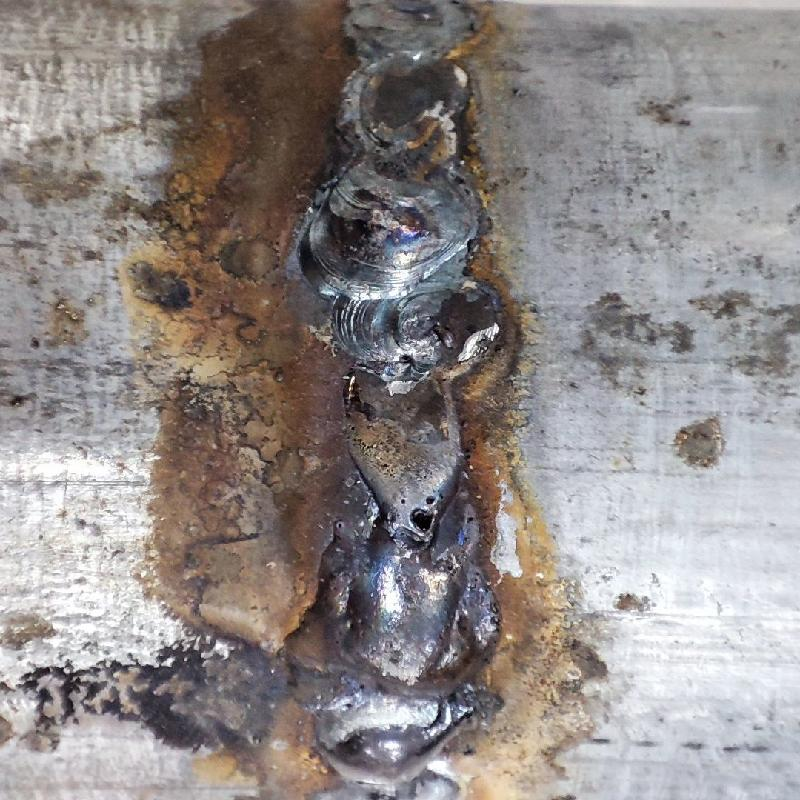Not_fully_soldered: (328, 277, 502, 529), (321, 2, 484, 216)
Surface_pores: (391, 484, 454, 540)
Weld: (298, 542, 504, 789)
